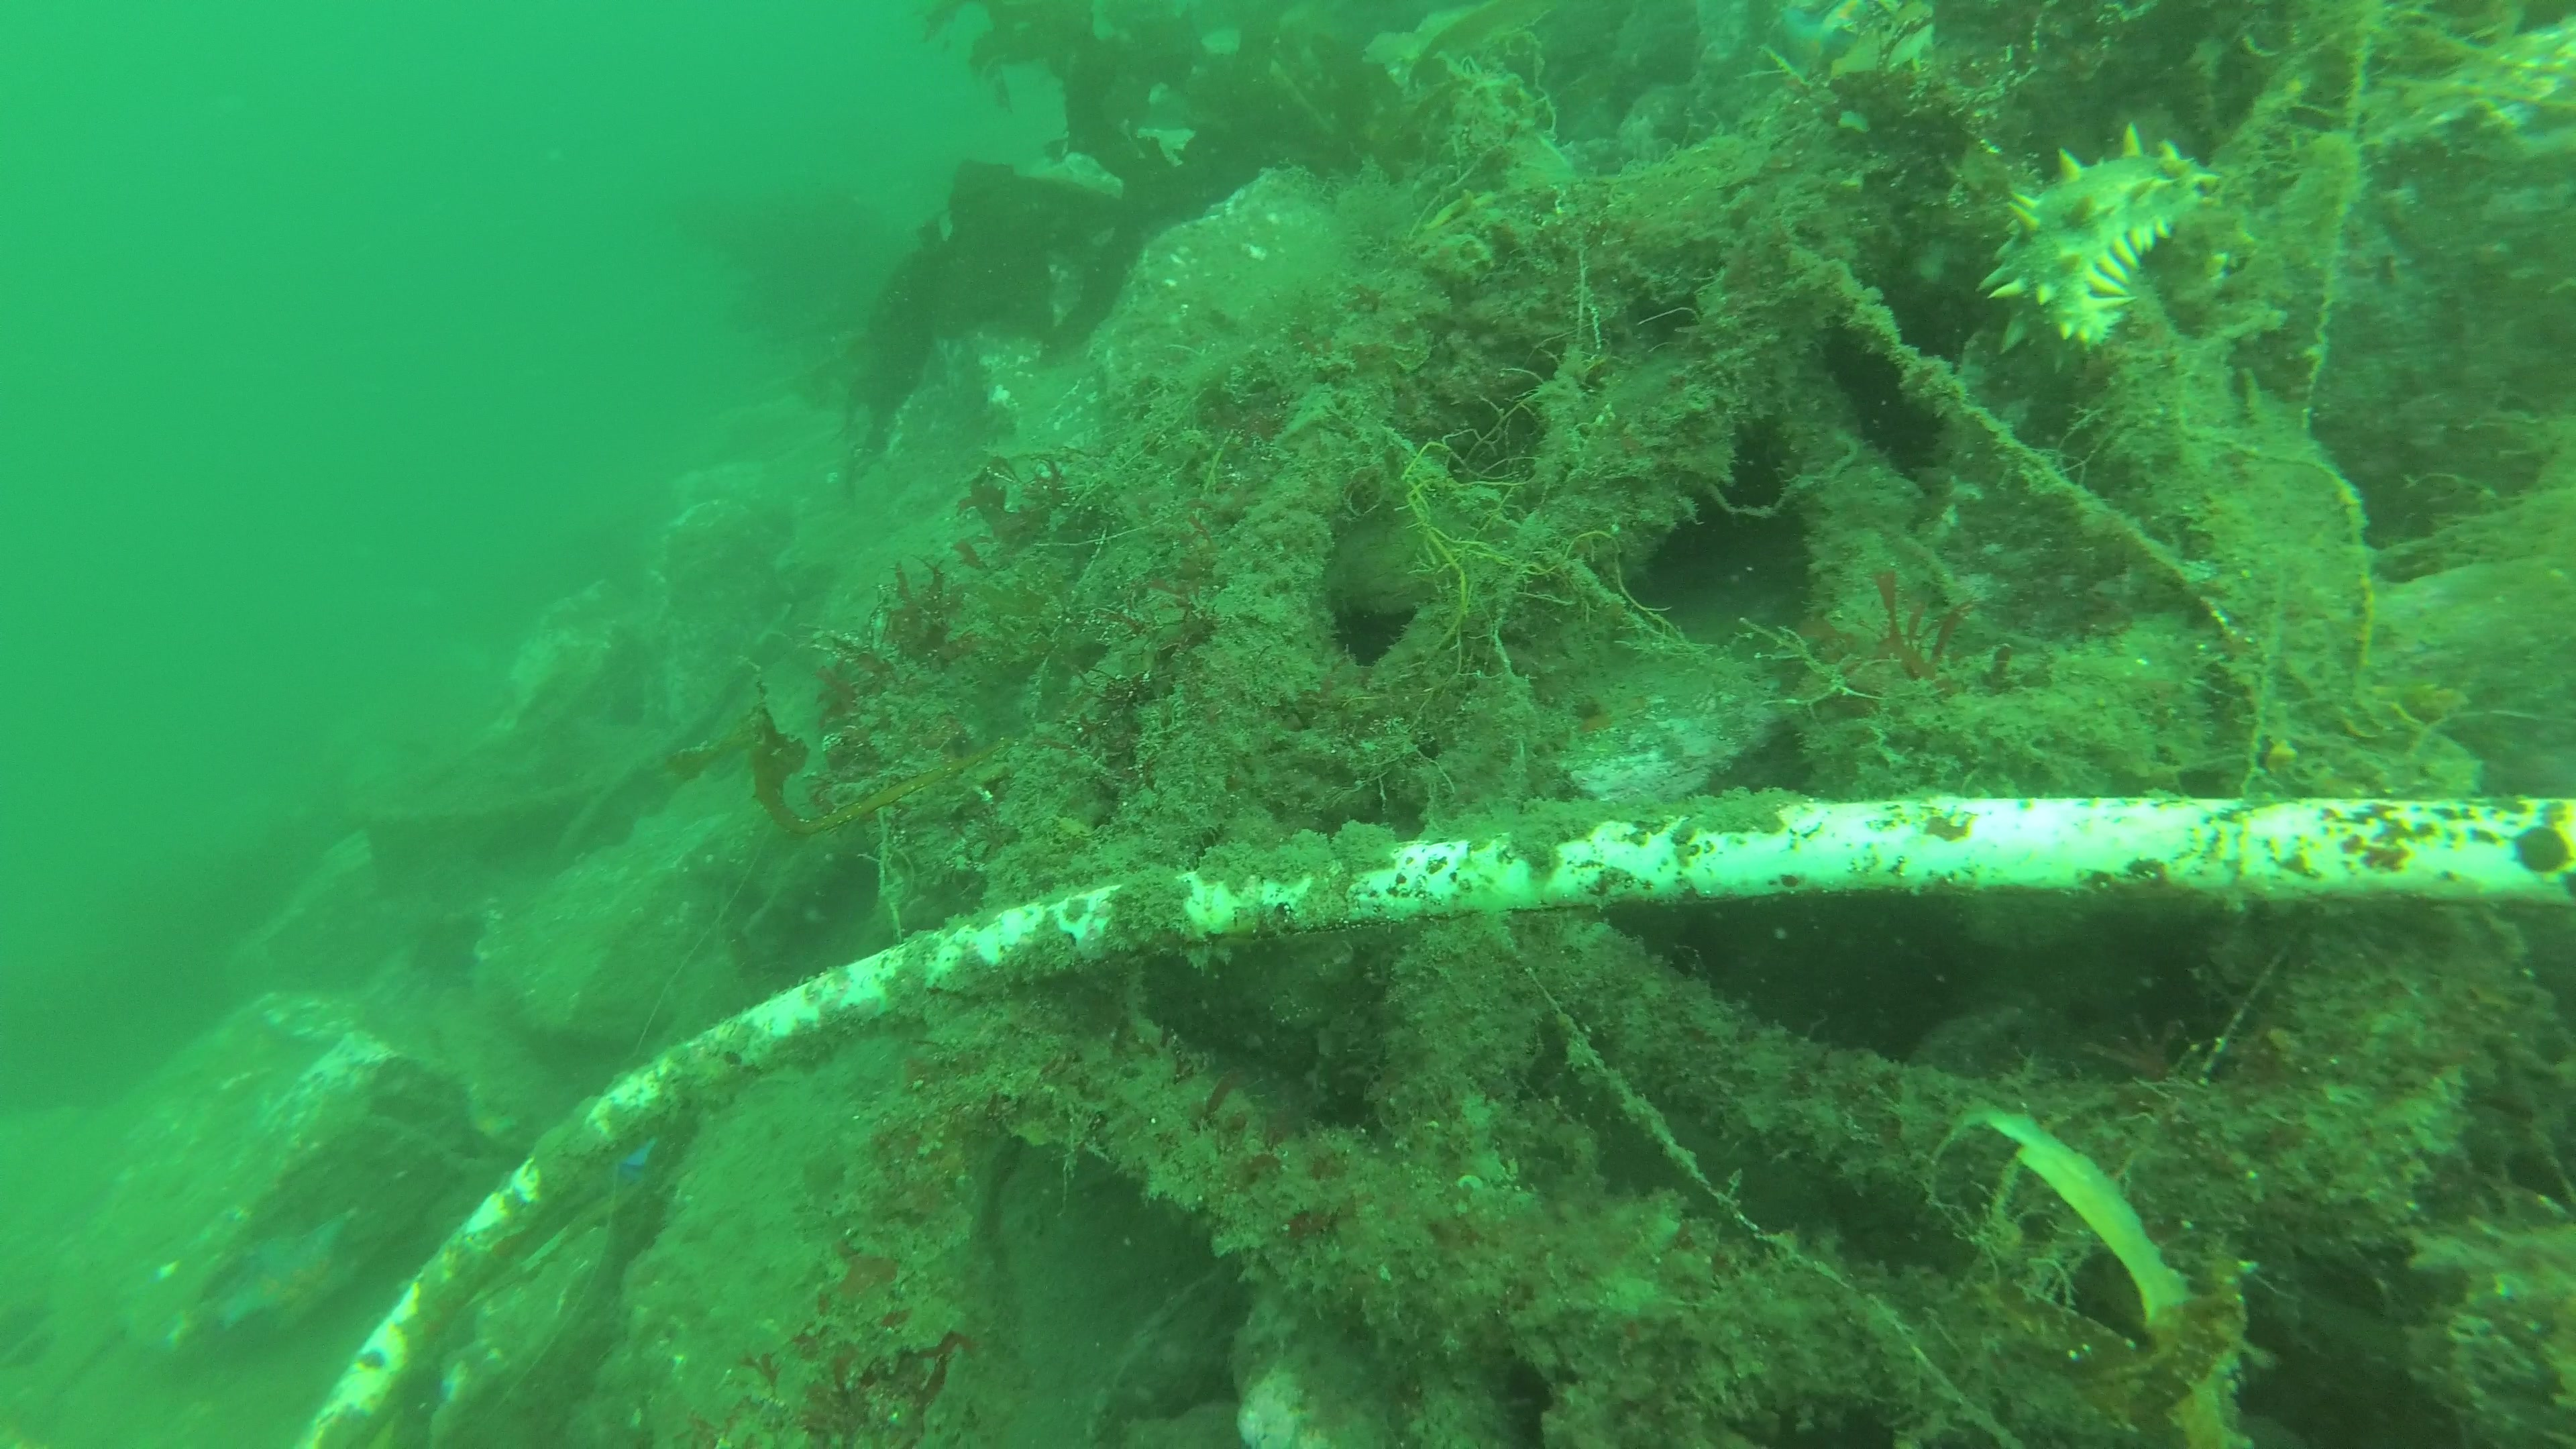holothurian: (1976, 122, 2222, 354)
starfish: (214, 1208, 364, 1338), (410, 1083, 527, 1180), (1783, 5, 1870, 87), (1819, 0, 1870, 51)
